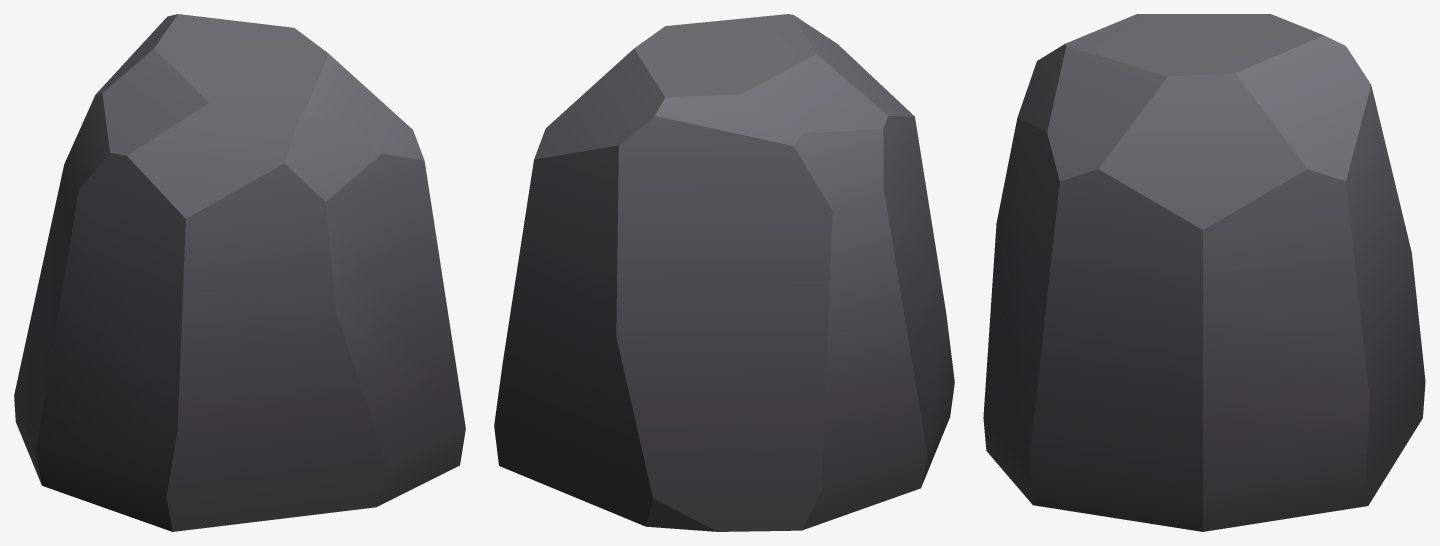
The model's file is Rock_04.fbx.
3 renders of one model, left to right at view 1: azimuth 30°, elevation 25°; view 2: azimuth 150°, elevation 25°; view 3: azimuth 270°, elevation 25°, orthographic. The views are drawn at different scales.
Visible parts, largest first — view 1: Rock_04; view 2: Rock_04; view 3: Rock_04.
Boxes of the visible parts, left/top/right/bottom form: Rock_04: left=14, top=14, right=465, bottom=531; Rock_04: left=494, top=14, right=954, bottom=531; Rock_04: left=983, top=14, right=1425, bottom=531.
Bounding box in the file's own units: 141 × 129 × 130.
